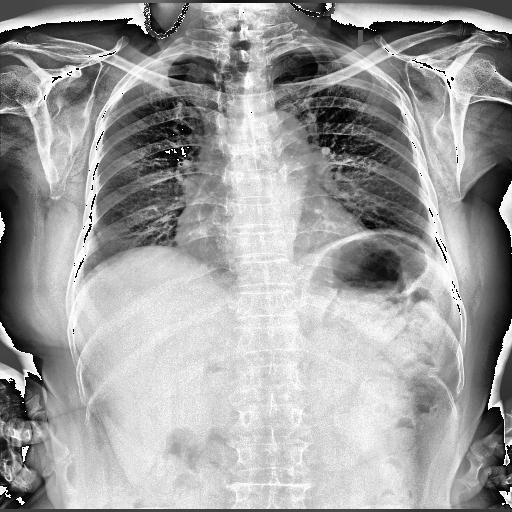0- Aortic enlargement: (250, 109, 310, 167), (248, 110, 310, 159), (259, 114, 307, 158)
11- Pleural thickening: (150, 50, 200, 64), (280, 44, 344, 54)
3- Cardiomegaly: (172, 205, 370, 254), (173, 211, 370, 253)
